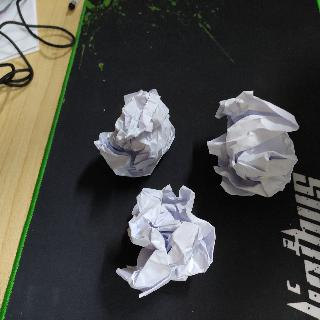8/可回收垃圾/纸: (114, 183, 216, 300), (206, 89, 300, 198), (93, 88, 176, 178)
